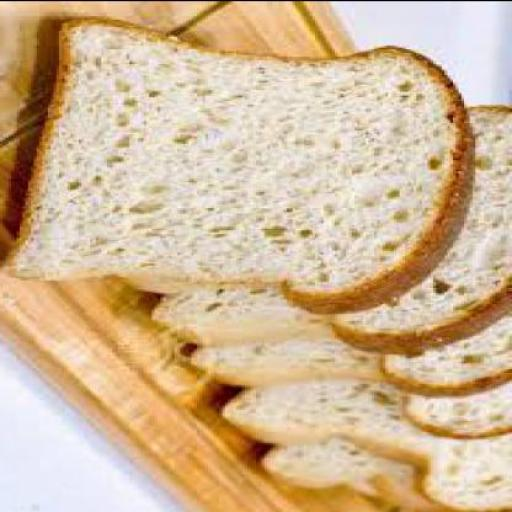biodegradable: (8, 15, 478, 310), (154, 100, 511, 346), (192, 309, 512, 394), (250, 434, 512, 506), (231, 376, 511, 434), (258, 438, 431, 510)
